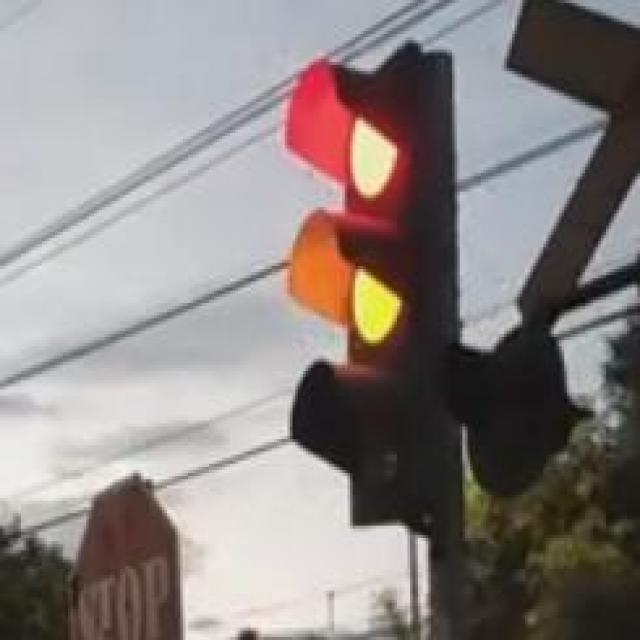yellow_light: (282, 50, 454, 526)
